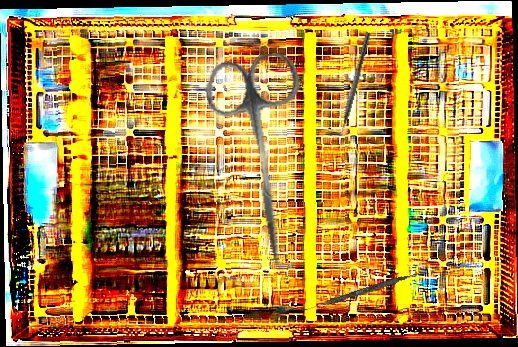Chopper: (331, 29, 372, 142)
Iris Scissors: (200, 49, 328, 273)
Spatula Surgical: (301, 267, 423, 316)
